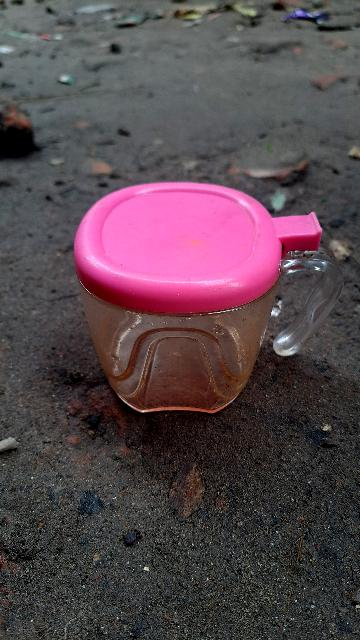hardplastic: (76, 194, 291, 419)
